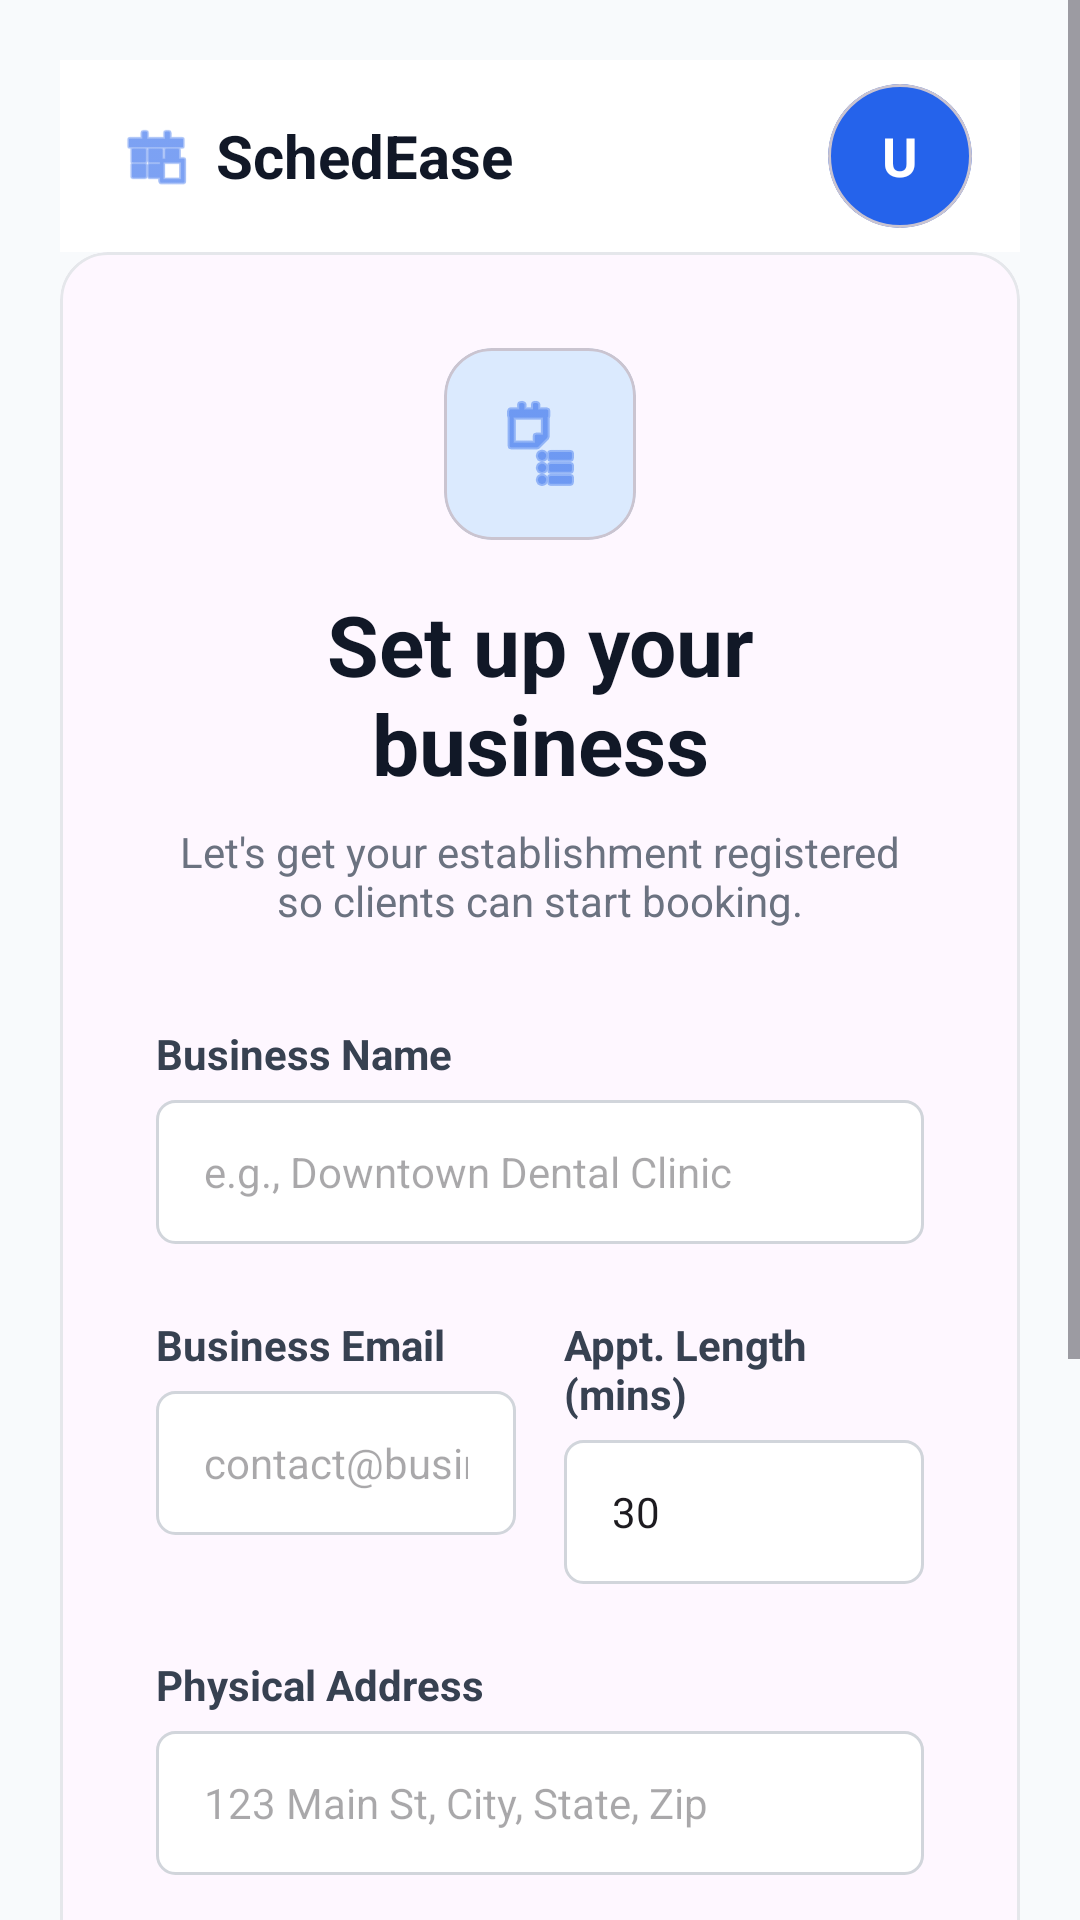

Screen size 1080×1920. Icon name, then its center in pixels as (x=x, y=y):
agenda: (x=540, y=443)
today: (x=156, y=157)
